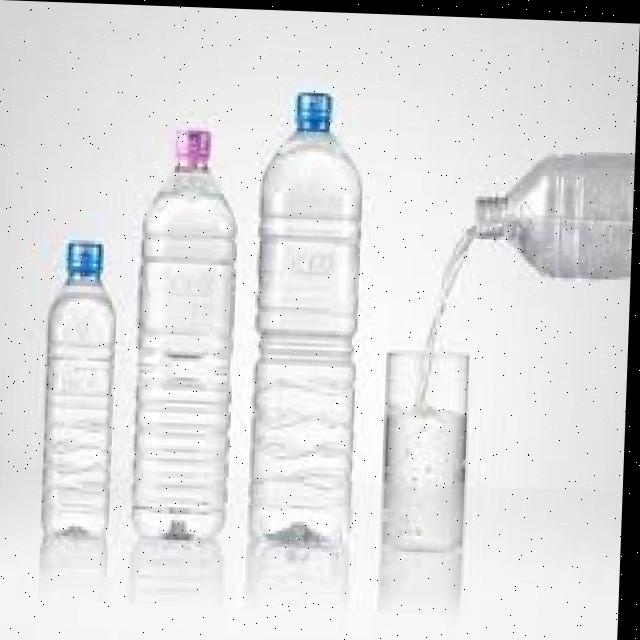bottle: (254, 66, 381, 569), (125, 95, 256, 567), (31, 207, 133, 584)
